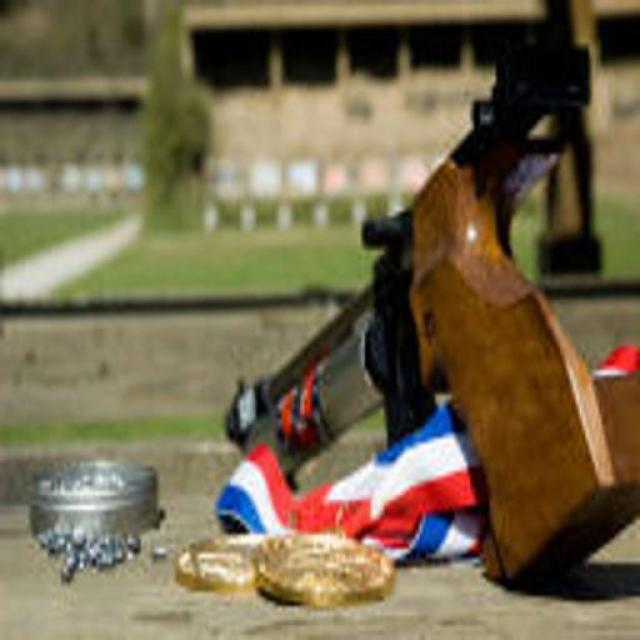pistol: (220, 37, 610, 586)
